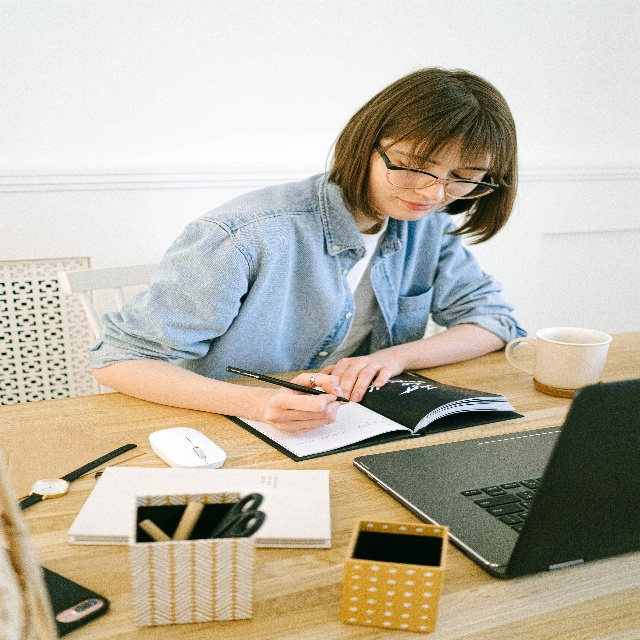Gafas: (375, 141, 499, 204)
Sin_guantes: (266, 378, 346, 432), (333, 350, 404, 398)
